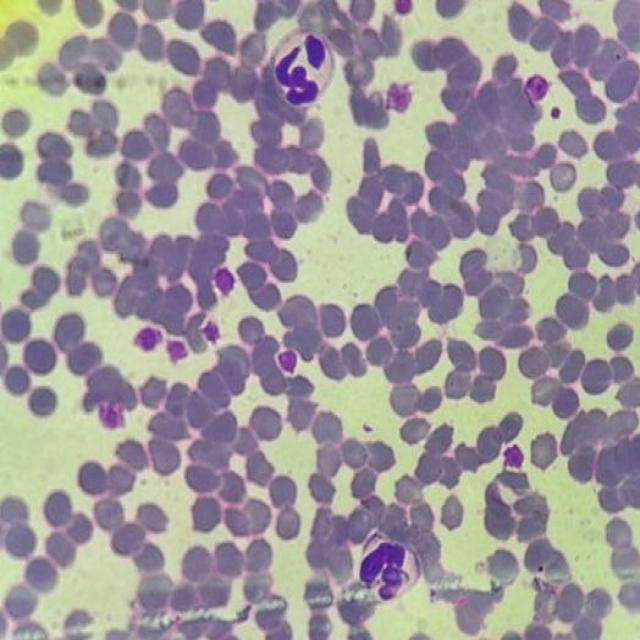Neutrofilo: (269, 23, 342, 110), (356, 532, 423, 603)
